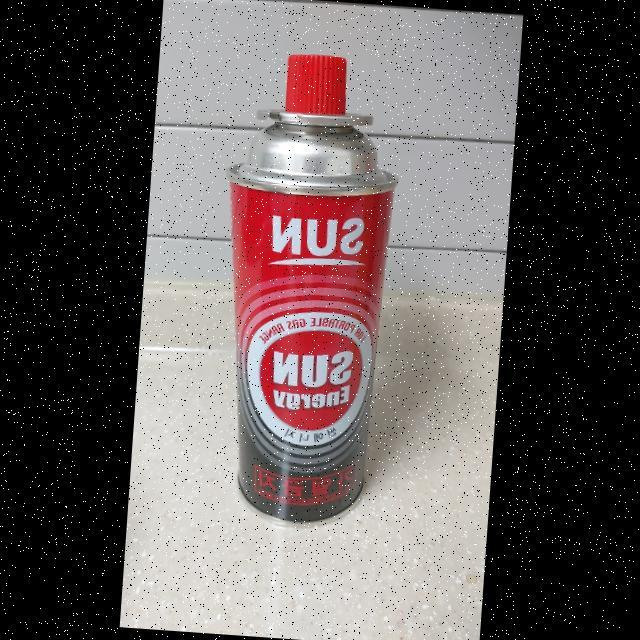chemical_spray_can: (196, 41, 407, 535)
